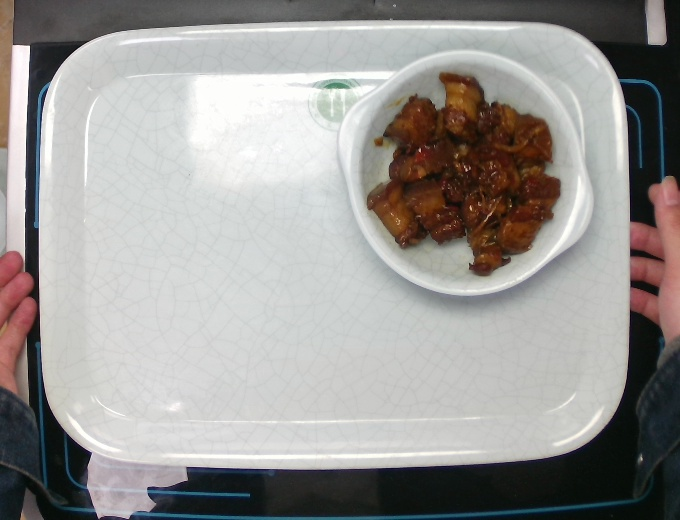JYsf-Shuang_Er_Wan: (319, 40, 607, 312)
